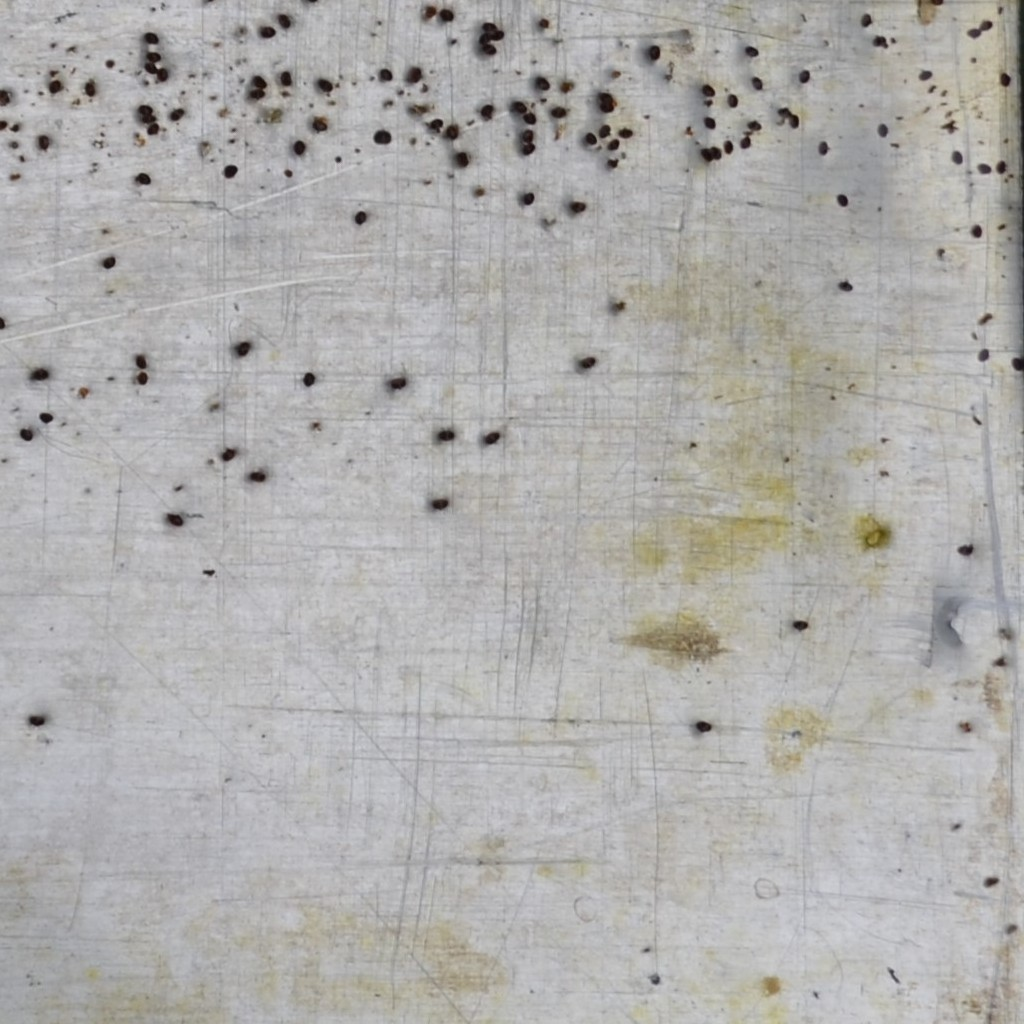varroa: (164, 508, 185, 529), (309, 114, 329, 135), (372, 128, 393, 147), (694, 717, 713, 737), (579, 352, 597, 373), (483, 427, 501, 448), (27, 711, 45, 731), (430, 495, 450, 513), (247, 466, 267, 484), (301, 367, 316, 390), (251, 69, 269, 88), (452, 148, 469, 168), (222, 161, 239, 181), (999, 67, 1013, 91), (478, 100, 494, 121), (835, 278, 853, 296), (388, 375, 406, 393), (316, 74, 333, 93), (142, 29, 161, 46), (976, 345, 992, 365), (235, 338, 251, 358), (428, 115, 443, 136), (533, 74, 550, 92), (437, 6, 455, 23), (290, 139, 307, 157), (220, 445, 237, 463), (436, 427, 455, 443), (137, 99, 156, 115), (100, 253, 119, 269), (792, 616, 807, 636), (354, 208, 369, 228), (276, 11, 291, 31), (750, 73, 764, 94), (702, 111, 716, 132), (279, 68, 293, 89), (134, 369, 151, 386), (948, 147, 964, 165), (568, 197, 586, 213), (859, 9, 872, 31), (834, 190, 849, 209), (169, 105, 184, 124), (798, 66, 812, 86), (29, 367, 49, 381), (916, 66, 933, 82), (700, 83, 716, 100), (18, 427, 35, 443), (583, 130, 598, 148), (511, 97, 526, 115), (378, 64, 393, 82), (134, 352, 149, 370), (1009, 355, 1023, 374), (817, 137, 831, 156), (549, 104, 568, 118), (259, 25, 278, 39), (83, 79, 97, 98), (37, 133, 51, 152), (647, 43, 660, 63), (977, 161, 993, 177), (47, 77, 63, 93), (743, 44, 760, 59), (521, 141, 538, 156), (521, 189, 536, 206), (136, 170, 151, 187), (969, 220, 983, 238), (250, 87, 268, 101), (966, 26, 982, 41), (747, 117, 763, 132), (37, 409, 53, 424), (875, 121, 889, 138), (739, 135, 753, 152), (598, 89, 615, 103), (479, 43, 496, 57), (156, 66, 170, 83), (709, 143, 722, 161), (145, 49, 163, 62), (409, 64, 421, 83), (699, 146, 713, 162), (788, 113, 801, 130), (522, 125, 534, 143), (979, 17, 993, 32), (598, 123, 612, 138), (995, 159, 1008, 175), (0, 86, 9, 109), (618, 126, 635, 138), (144, 61, 158, 75), (726, 93, 739, 108), (523, 111, 538, 124), (599, 101, 615, 113), (607, 138, 619, 154), (482, 21, 498, 33), (723, 138, 734, 155), (140, 113, 157, 123), (479, 33, 493, 45), (146, 121, 158, 135), (492, 29, 505, 41), (0, 118, 6, 137)
